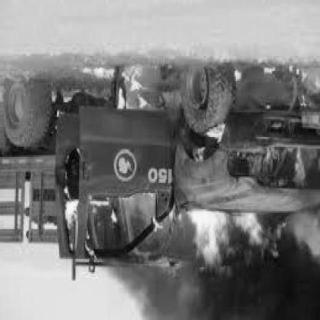Fire: (76, 59, 166, 121)
